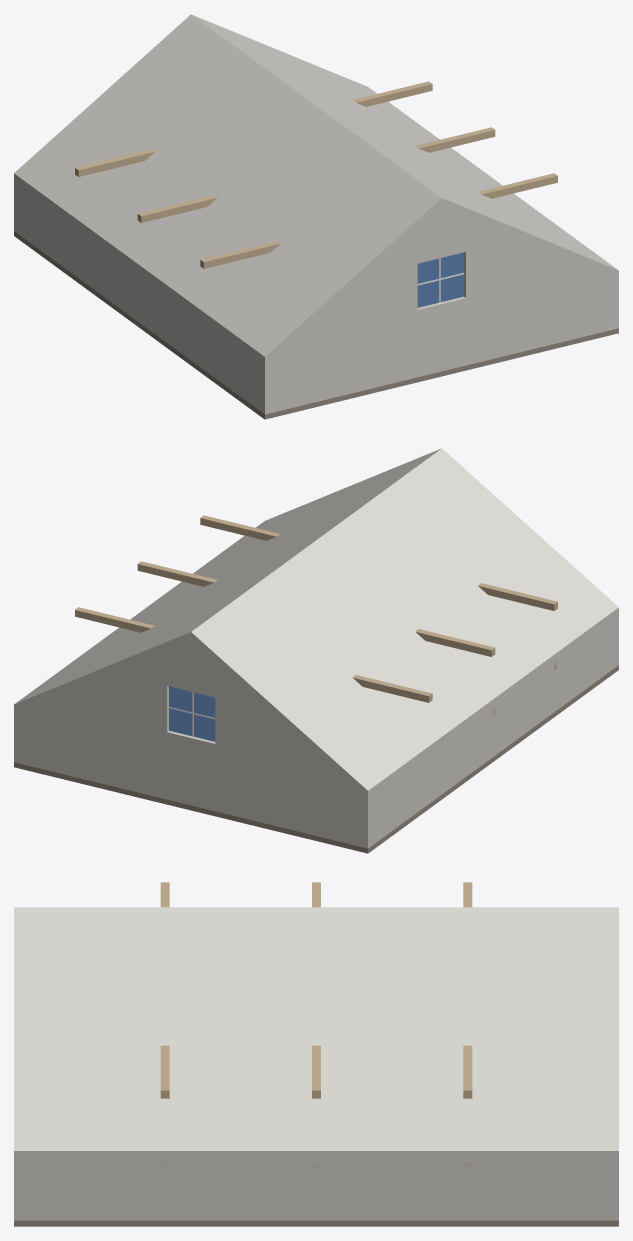
File: interior-attic-v001.glb
3 renders of one model, top to bottom at view 1: azimuth 30°, elevation 25°; view 2: azimuth 150°, elevation 25°; view 3: azimuth 270°, elevation 25°, orthographic. The views are drawn at different scales.
Parts seen in each view (by area): view 1: interior-attic-v001; view 2: interior-attic-v001; view 3: interior-attic-v001.
Boxes of the visible parts, box(x1,y1,x2,y2) form: interior-attic-v001: box(14, 14, 618, 419); interior-attic-v001: box(14, 448, 618, 853); interior-attic-v001: box(14, 882, 618, 1226).
Size of the model in its own units: 8.8 by 4.24 by 10.8.
